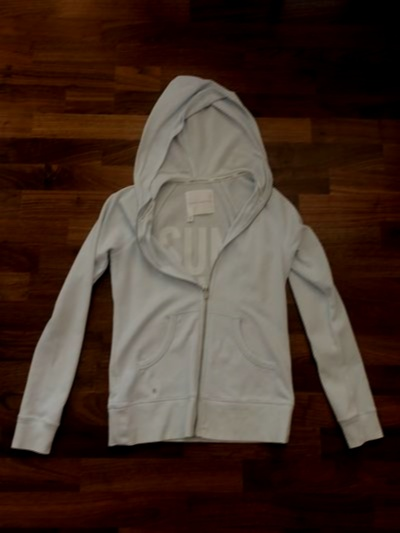Hoodie: (8, 74, 397, 474)
